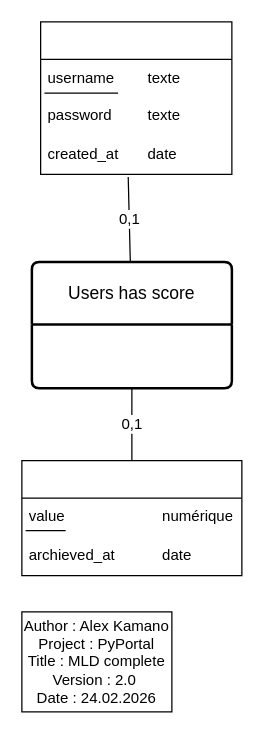
Some shapes in this 264 by 734 pixel diagram are drawn without their labels. Here are the shapes that lost their labels. From the top down, the box of each, then its label:
(39, 21, 232, 174): Users
(21, 459, 242, 576): Scores
